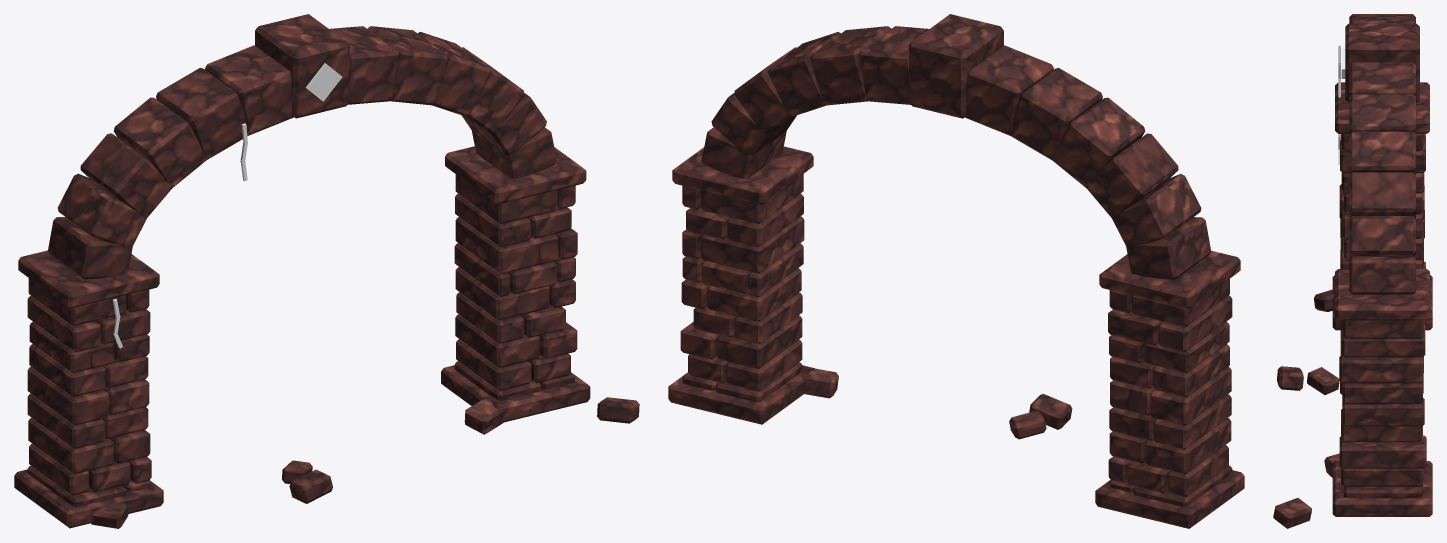
Rendered from mapkit_arch_magma.fbx.
3 renders of one model, left to right at view 1: azimuth 30°, elevation 25°; view 2: azimuth 150°, elevation 25°; view 3: azimuth 270°, elevation 25°, orthographic. The views are drawn at different scales.
Visible parts, largest first — view 1: Body, c_255_115_31; view 2: Body; view 3: Body, c_255_115_31.
Part boxes in pixels (left/top/right/bottom): Body: left=14, top=14, right=639, bottom=528; c_255_115_31: left=112, top=63, right=342, bottom=348; Body: left=668, top=14, right=1244, bottom=528; Body: left=1273, top=14, right=1432, bottom=528; c_255_115_31: left=1338, top=45, right=1345, bottom=164.
Bounding box in the file's own units: 2201 × 1607 × 621.
Materials: 1 (1 with a texture image).
